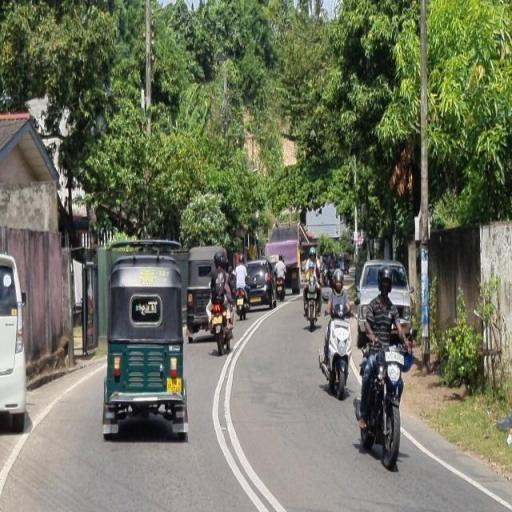double_white_line: (210, 291, 294, 510), (401, 424, 512, 511)
